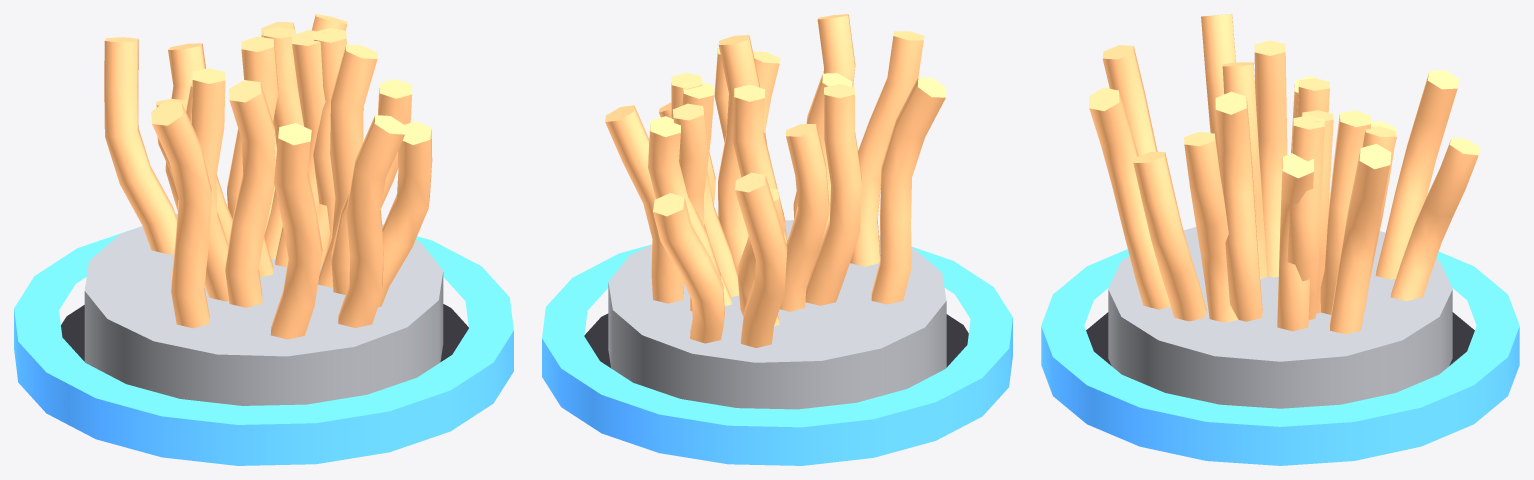
The model's file is cut_copper.glb.
The picture shows the model from 3 angles, left to right: view 1: azimuth 30°, elevation 25°; view 2: azimuth 150°, elevation 25°; view 3: azimuth 270°, elevation 25°; orthographic projection. The views are drawn at different scales.
Parts seen in each view (by area): view 1: copper, jacket_ring, insulation, filler; view 2: copper, jacket_ring, insulation, filler; view 3: copper, jacket_ring, insulation, filler.
Boxes of the visible parts, x1=… form: copper: x1=104, y1=14, x2=432, y2=339; jacket_ring: x1=14, y1=228, x2=513, y2=465; insulation: x1=84, y1=214, x2=443, y2=405; filler: x1=61, y1=304, x2=468, y2=361; copper: x1=605, y1=14, x2=946, y2=347; jacket_ring: x1=542, y1=244, x2=1012, y2=465; insulation: x1=608, y1=220, x2=946, y2=409; filler: x1=584, y1=313, x2=968, y2=367; copper: x1=1088, y1=14, x2=1480, y2=334; jacket_ring: x1=1041, y1=249, x2=1519, y2=465; insulation: x1=1108, y1=227, x2=1452, y2=408; filler: x1=1086, y1=312, x2=1474, y2=365.
Bounding box in the file's own units: 2 × 1.4 × 2.
